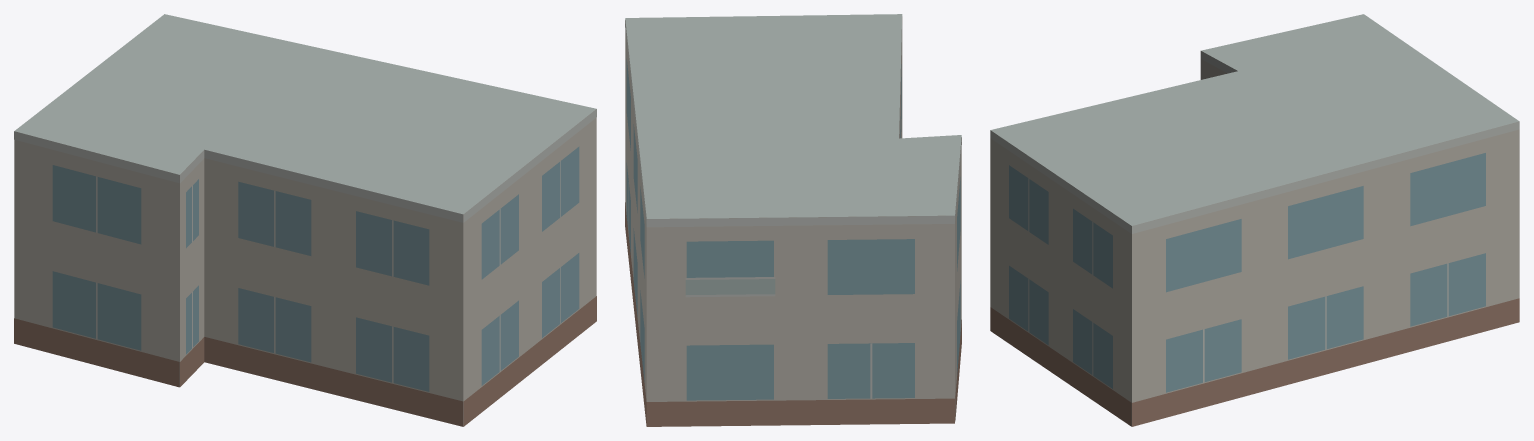
File: survey-upis-33021078.glb
3 renders of one model, left to right at view 1: azimuth 30°, elevation 25°; view 2: azimuth 150°, elevation 25°; view 3: azimuth 270°, elevation 25°, orthographic. The views are drawn at different scales.
Visible parts, largest first — view 1: survey-upis-33021078.tmp; view 2: survey-upis-33021078.tmp; view 3: survey-upis-33021078.tmp.
Part boxes in pixels (<box>): survey-upis-33021078.tmp: <box>14,14,596,426</box>; survey-upis-33021078.tmp: <box>625,14,961,426</box>; survey-upis-33021078.tmp: <box>990,14,1519,426</box>.
Size of the model in its own units: 13.83 by 6.1 by 14.58.
